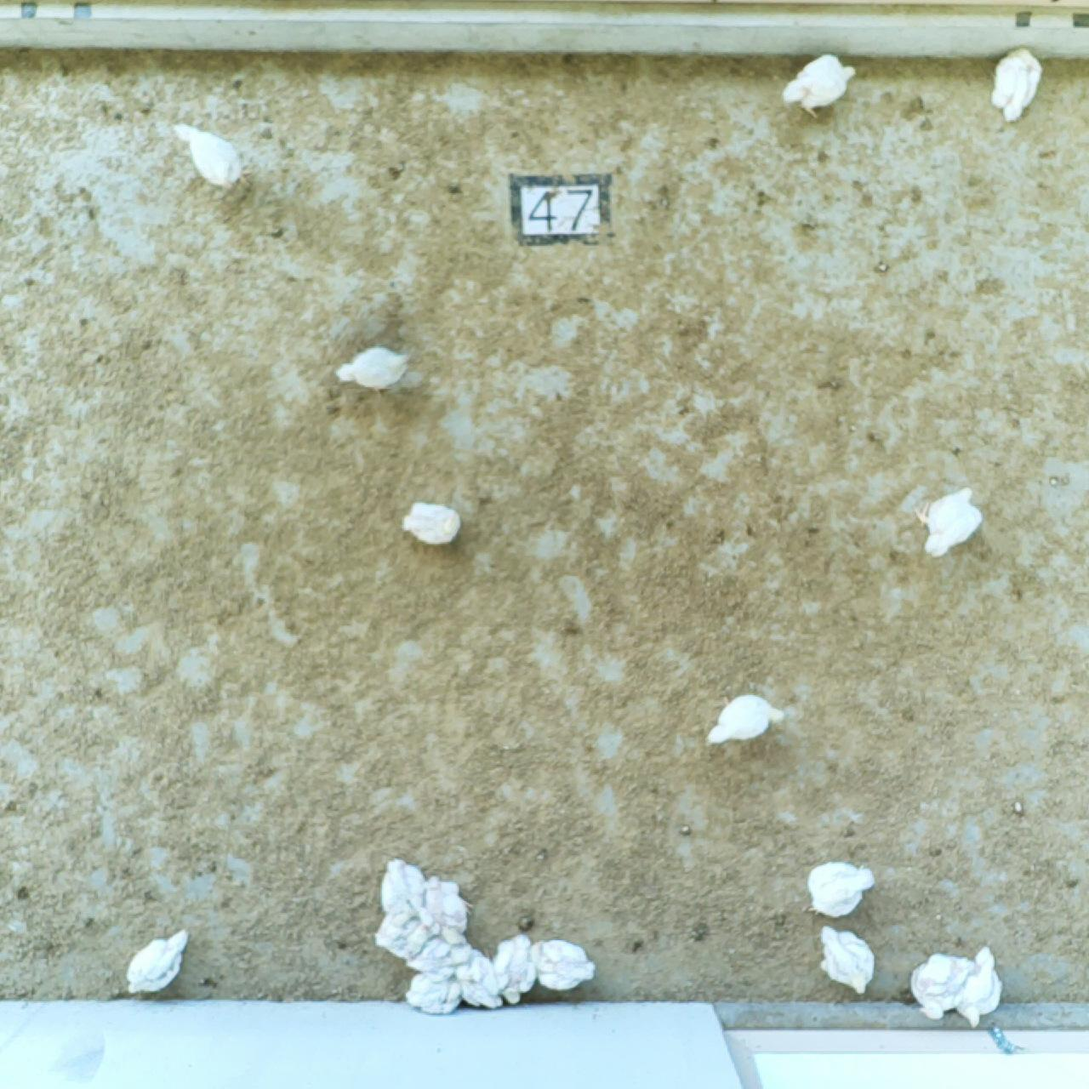chicken: (172, 123, 253, 189), (915, 487, 984, 558), (782, 53, 856, 117), (706, 693, 784, 746), (334, 345, 413, 397), (124, 930, 188, 994), (803, 862, 875, 917), (990, 47, 1042, 123), (819, 925, 875, 995), (416, 878, 471, 943), (530, 938, 596, 991), (957, 947, 1001, 1026), (909, 962, 967, 1018), (374, 913, 439, 961), (493, 936, 537, 1006), (408, 938, 477, 978), (379, 858, 426, 916), (456, 949, 502, 1008), (402, 500, 460, 545), (920, 954, 977, 995), (408, 972, 463, 1014)
